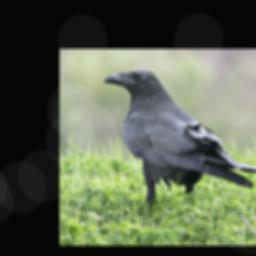Crow: (104, 70, 256, 213)
